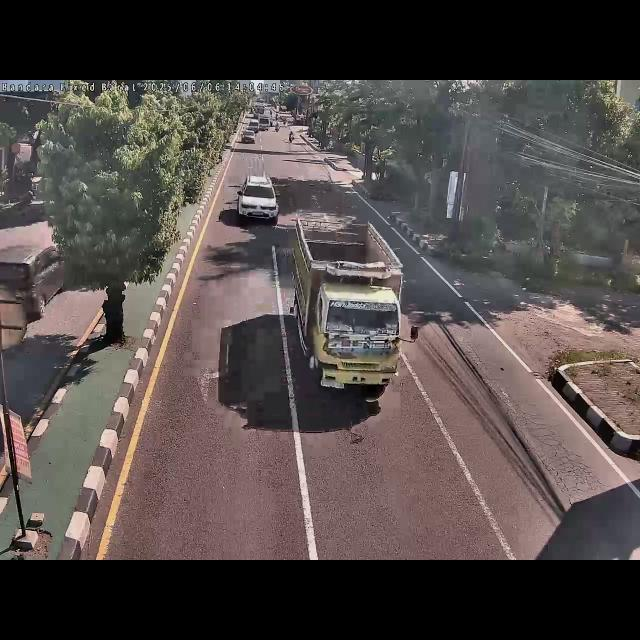Mobil: (238, 175, 282, 223)
Truk: (290, 214, 408, 390)
